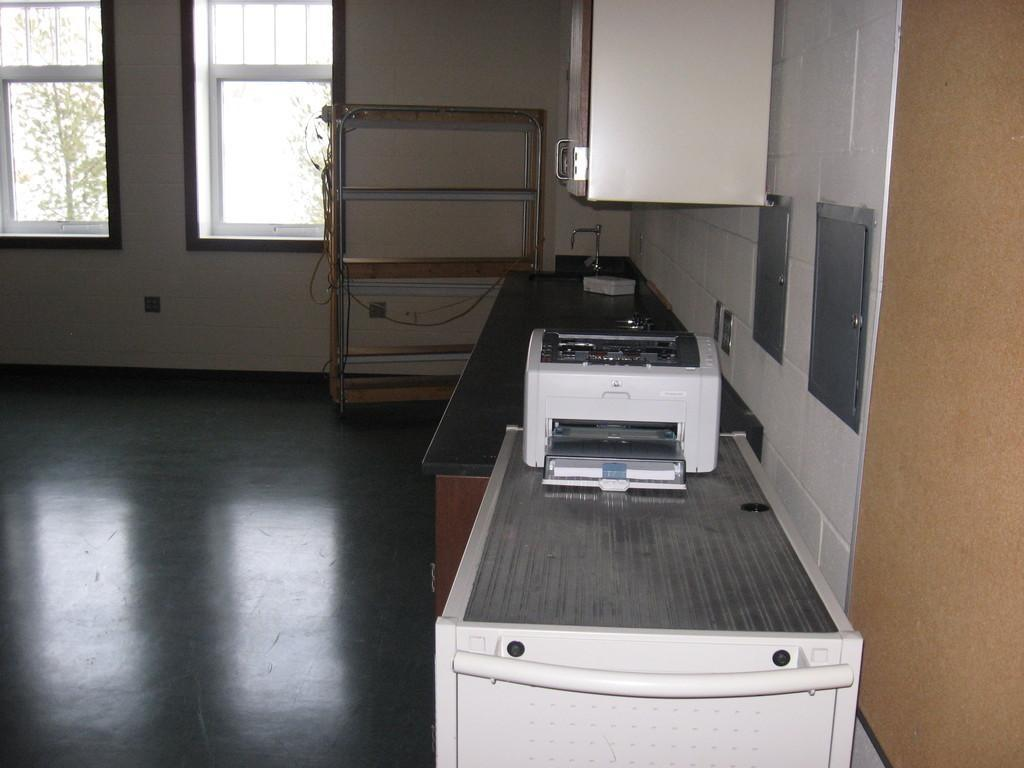Printer: (523, 327, 721, 491)
Rak: (331, 105, 547, 400)
